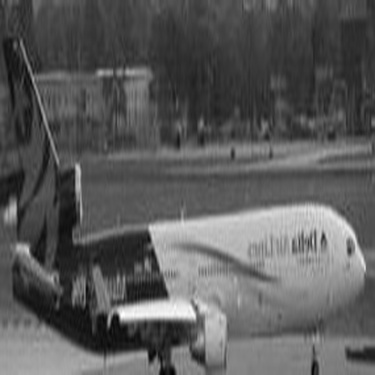airplane: (3, 26, 368, 371)
